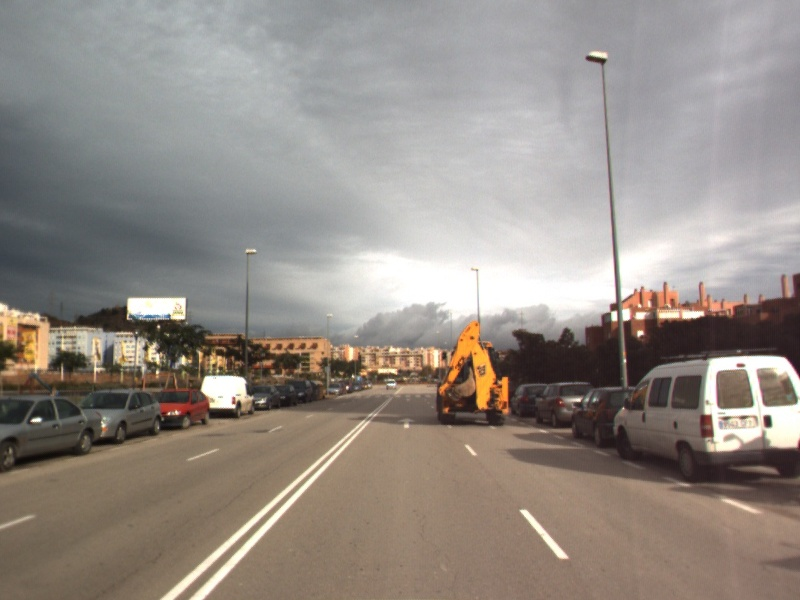STRAIGHT: (397, 416, 418, 430)
